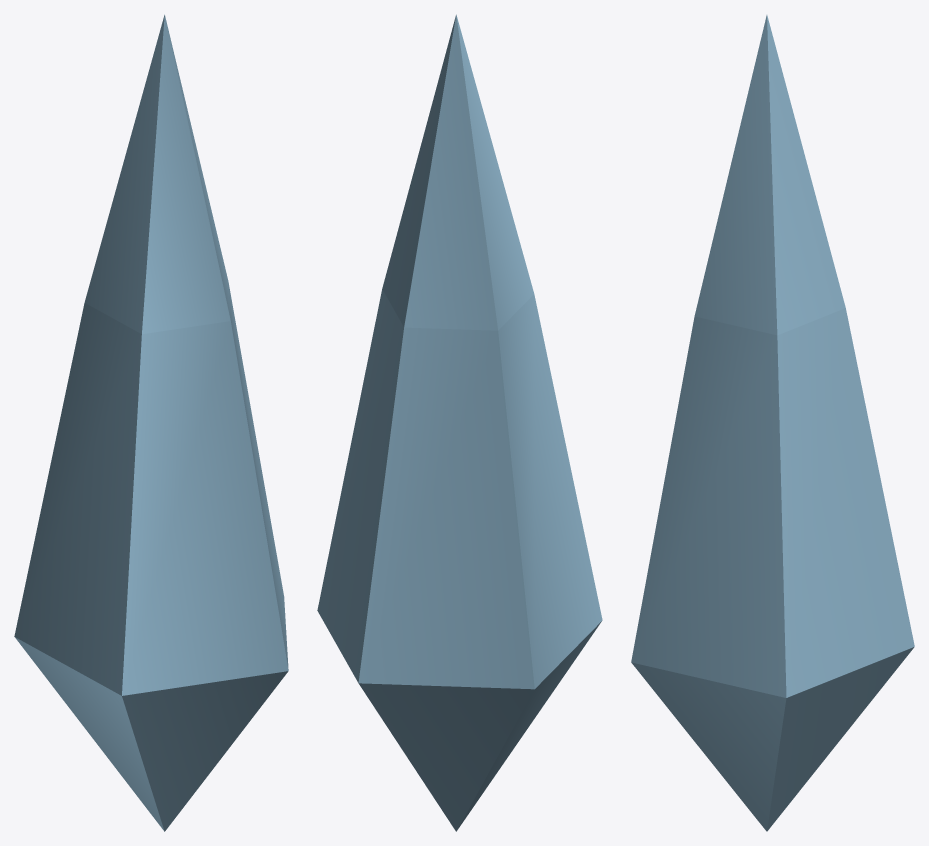
File: Chongyun_RimechaserBlade_SingleTarget_SpiritSwordFrostChip.fbx
The picture shows the model from 3 angles, left to right: view 1: azimuth 30°, elevation 25°; view 2: azimuth 150°, elevation 25°; view 3: azimuth 270°, elevation 25°; orthographic projection.
Visible parts, largest first — view 1: PART_FiniteSpiritSwordIceChip; view 2: PART_FiniteSpiritSwordIceChip; view 3: PART_FiniteSpiritSwordIceChip.
Boxes of the visible parts, x1,y1,x2,y2 form: PART_FiniteSpiritSwordIceChip: (14,14,288,831); PART_FiniteSpiritSwordIceChip: (317,14,602,831); PART_FiniteSpiritSwordIceChip: (631,15,914,831).
Bounding box in the file's own units: 8.41 × 27 × 8.49.
